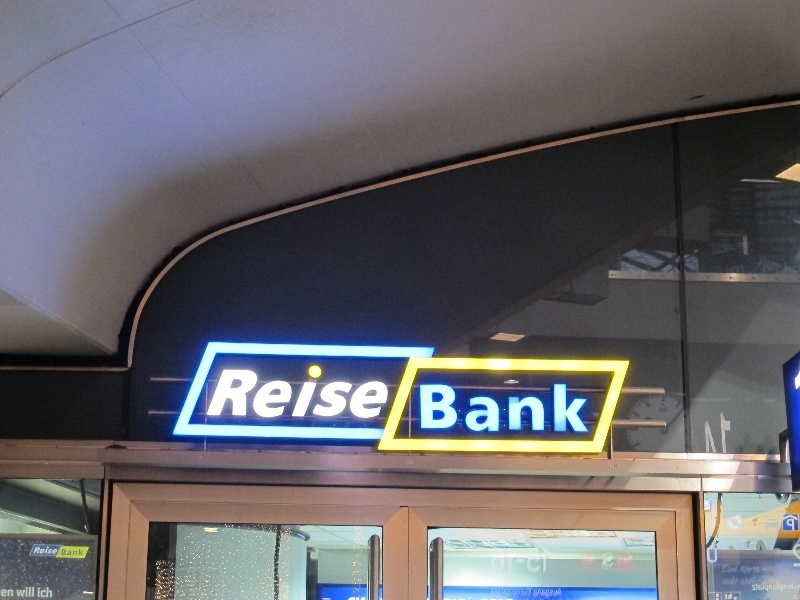text: (225, 363, 240, 420), (241, 363, 256, 420), (257, 363, 272, 420), (273, 363, 288, 420), (289, 363, 304, 420), (305, 363, 320, 420), (321, 363, 336, 420), (337, 363, 352, 420), (353, 363, 368, 420), (369, 363, 384, 420), (385, 363, 400, 420), (433, 383, 448, 433), (449, 383, 464, 433), (465, 383, 480, 433), (481, 383, 496, 433), (497, 383, 512, 433), (513, 383, 528, 433), (529, 383, 544, 433), (545, 383, 560, 433), (561, 383, 576, 433), (418, 383, 432, 433), (577, 383, 590, 433), (497, 548, 512, 574), (513, 548, 528, 574), (529, 548, 544, 574), (786, 518, 800, 531), (722, 574, 736, 586), (17, 587, 32, 598), (497, 589, 512, 599), (513, 589, 528, 599), (529, 589, 544, 599), (545, 589, 560, 599), (753, 582, 768, 592), (769, 582, 784, 592), (785, 582, 800, 592), (753, 576, 768, 586), (753, 565, 768, 574), (38, 587, 48, 598), (741, 576, 752, 586), (769, 576, 780, 586), (65, 549, 80, 556), (545, 548, 549, 574), (723, 565, 736, 573), (2, 590, 16, 597), (742, 565, 752, 574), (36, 547, 48, 554), (493, 548, 496, 574), (49, 547, 59, 554), (625, 556, 634, 563), (583, 556, 592, 563), (737, 574, 742, 586), (223, 363, 224, 420), (401, 363, 402, 420), (618, 556, 624, 563), (492, 589, 496, 599), (794, 594, 800, 600), (715, 593, 720, 600), (49, 587, 52, 598), (321, 598, 336, 600), (337, 598, 352, 600), (353, 598, 368, 600), (433, 598, 448, 600), (449, 598, 464, 600), (465, 598, 480, 600), (481, 598, 496, 600), (497, 598, 512, 600), (369, 598, 383, 600), (737, 565, 740, 573), (33, 587, 35, 598), (561, 589, 563, 599), (62, 549, 64, 556), (81, 549, 83, 556), (593, 556, 595, 563), (427, 598, 432, 600), (513, 598, 515, 600)
